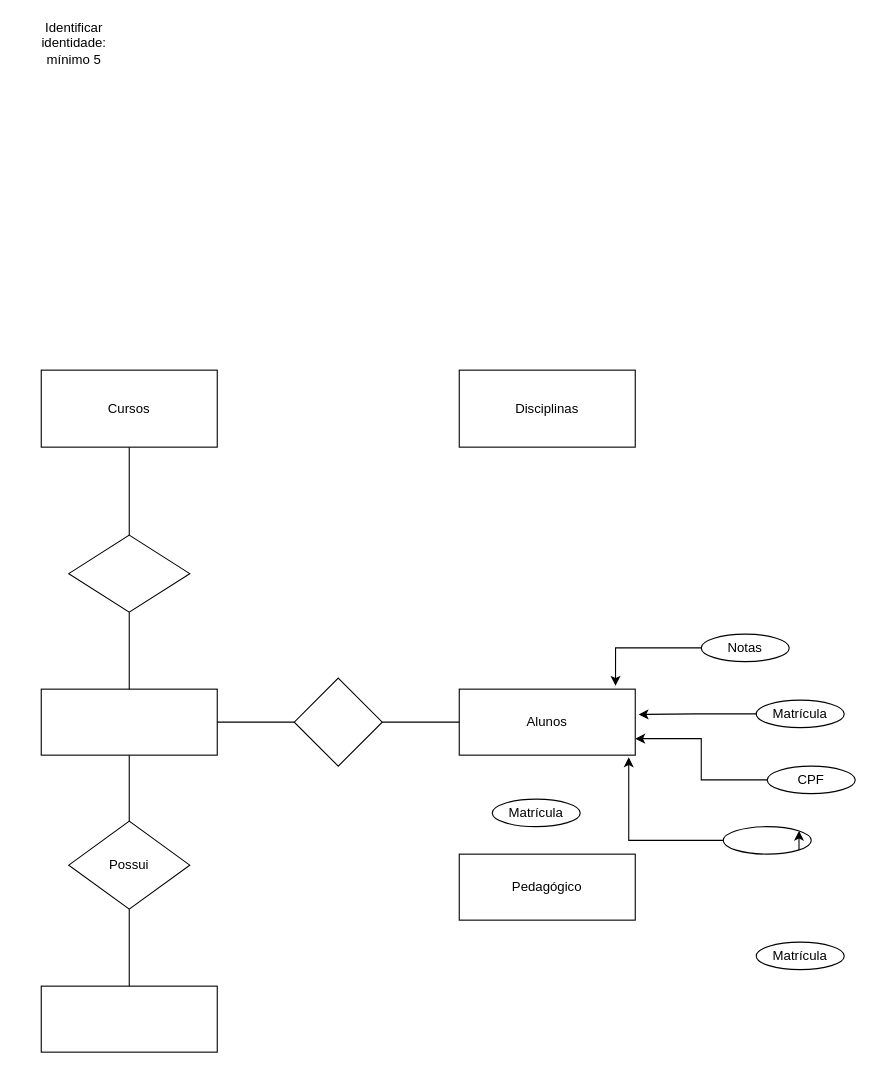
This 875x1071 diagram has some shape labels left out. Here are the shapes that lost their labels. From the top down, the centre of each, then its label:
At (x=129, y=573): "Fornece".
At (x=128, y=721): "Escola".
At (x=337, y=721): "Tem".
At (x=766, y=840): "Endereço".
At (x=128, y=1018): "Professores".
